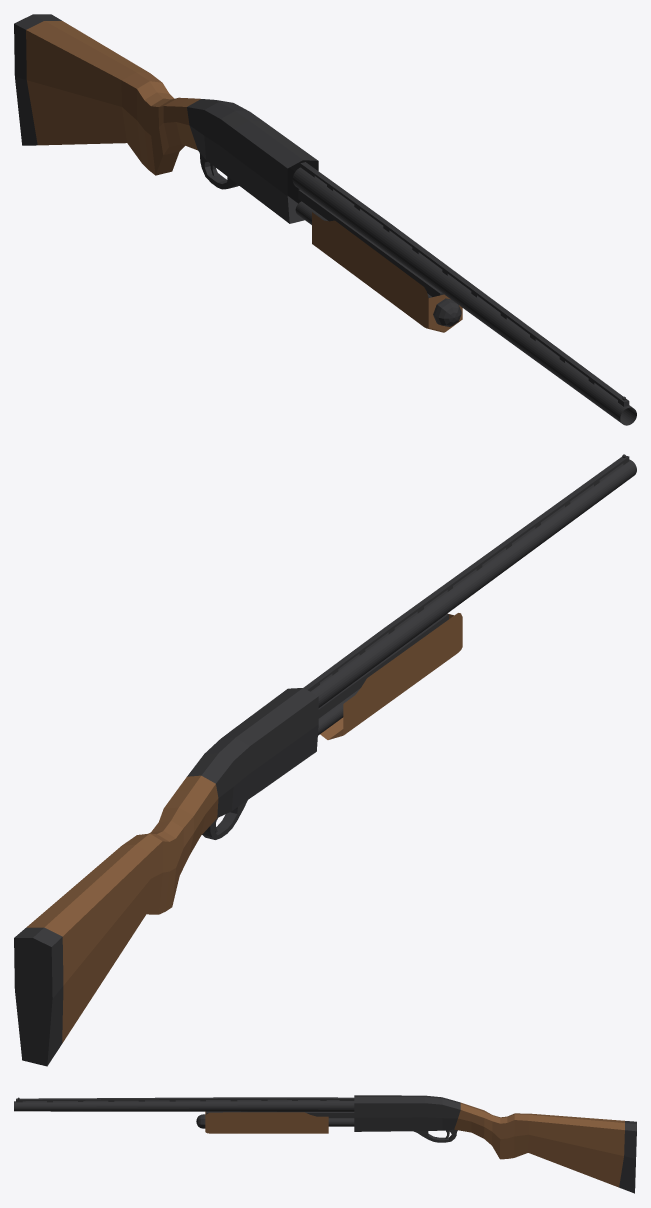
Rendered from espingarda.glb.
3 views of the same model, one above another, from view 1: azimuth 30°, elevation 25°; view 2: azimuth 150°, elevation 25°; view 3: azimuth 270°, elevation 25° (orthographic). The views are drawn at different scales.
Visible parts, largest first — view 1: Malha; view 2: Malha; view 3: Malha.
Boxes of the visible parts, left/top/right/bottom form: Malha: left=14, top=14, right=636, bottom=425; Malha: left=14, top=454, right=636, bottom=1066; Malha: left=14, top=1095, right=636, bottom=1193.
Size of the model in its own units: 0.0383 by 0.1742 by 1.05.
